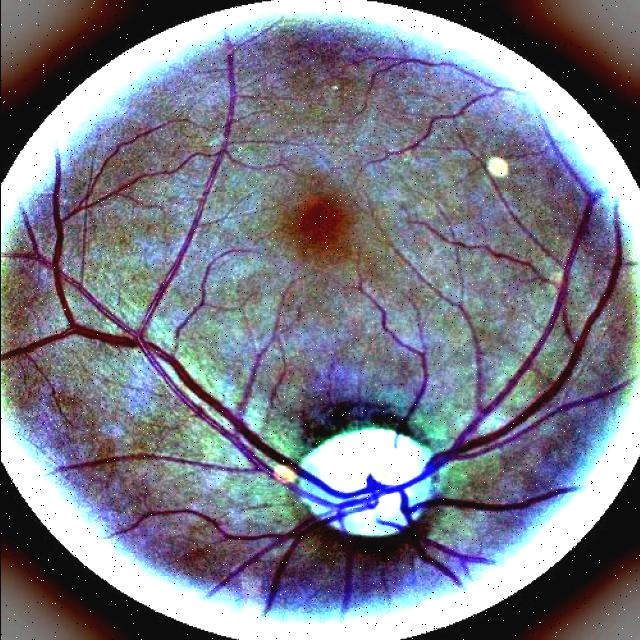Macula: (283, 192, 352, 256)
Nerves: (0, 163, 626, 614), (392, 351, 429, 435)
Optic Disk: (296, 427, 432, 535)
